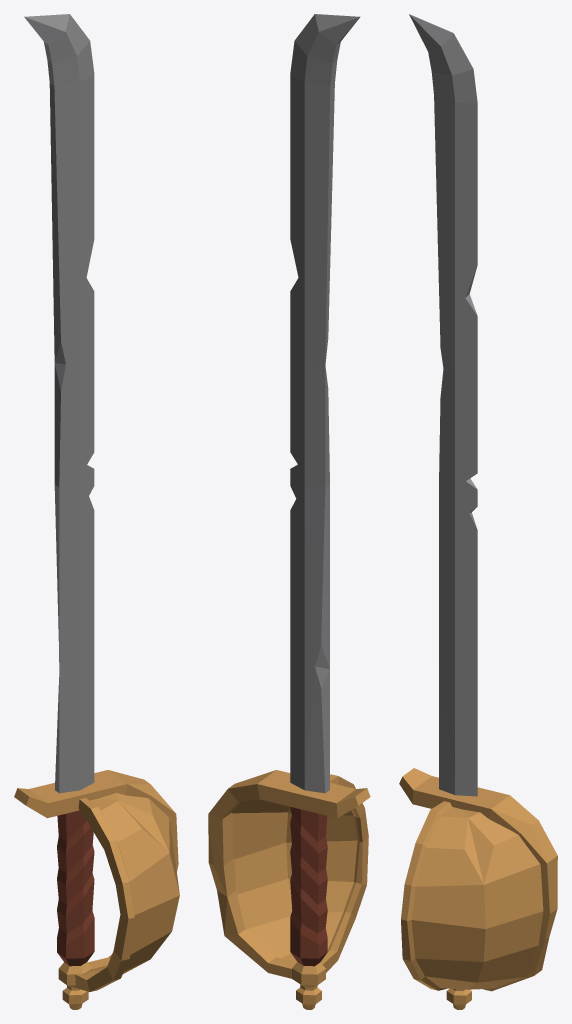
Rendered from SM_Wep_Sabre_02.glb.
3 views of the same model, side by side, from view 1: azimuth 30°, elevation 25°; view 2: azimuth 150°, elevation 25°; view 3: azimuth 330°, elevation 25° (orthographic). The views are drawn at different scales.
Visible parts, largest first — view 1: SM_Wep_Sabre_02; view 2: SM_Wep_Sabre_02; view 3: SM_Wep_Sabre_02.
Boxes of the visible parts, x1,y1,x2,y2 form: SM_Wep_Sabre_02: (14,14,179,1009); SM_Wep_Sabre_02: (208,14,370,1009); SM_Wep_Sabre_02: (399,14,557,1009).
Bounding box in the file's own units: 0.00193 × 0.0121 × 0.00144.
Materials: 1 (1 with a texture image).
